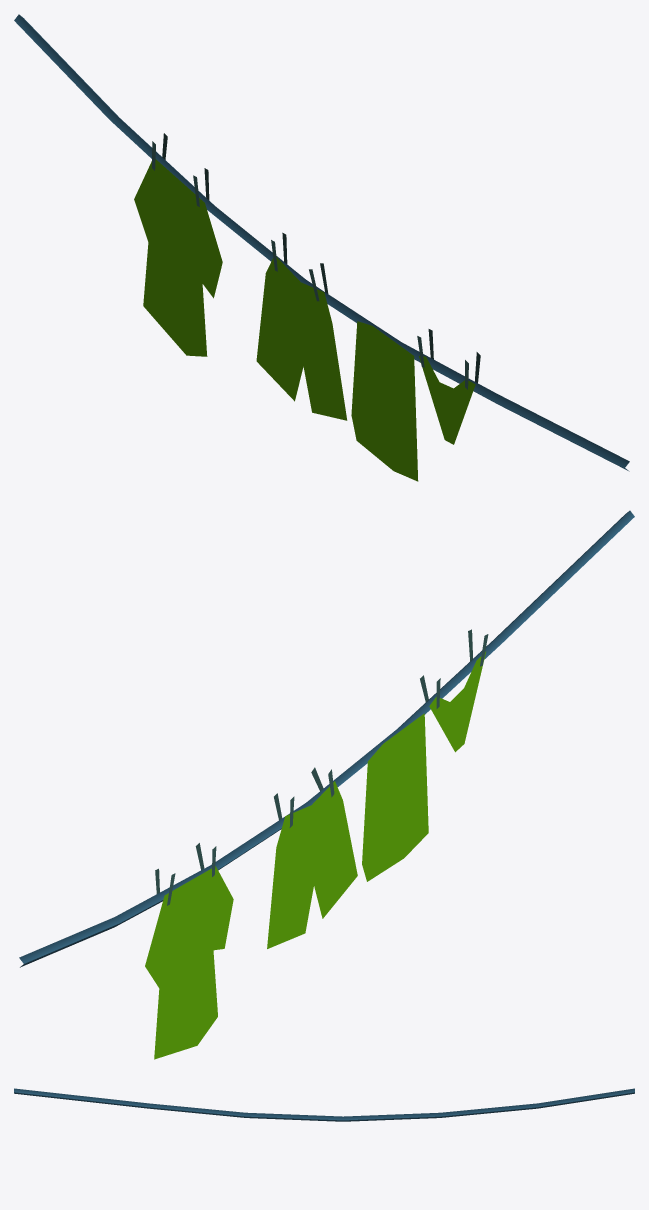
Rendered from ClothesLine03Night.glb.
3 views of the same model, one above another, from view 1: azimuth 30°, elevation 25°; view 2: azimuth 150°, elevation 25°; view 3: azimuth 270°, elevation 25° (orthographic). The views are drawn at different scales.
Parts seen in each view (by area): view 1: ClothesLine03Night; view 2: ClothesLine03Night; view 3: ClothesLine03Night.
Part boxes in pixels (bbox=[...]): ClothesLine03Night: bbox=[14, 14, 629, 481]; ClothesLine03Night: bbox=[19, 510, 634, 1059]; ClothesLine03Night: bbox=[14, 1088, 634, 1121].
Bounding box in the file's own units: 0.1438 × 2 × 10.39.
2 materials, 1 textured.
